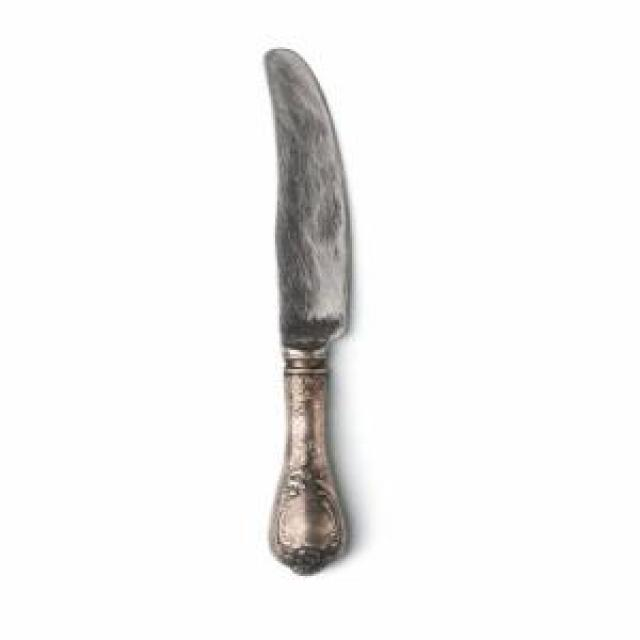knife: (250, 43, 388, 576)
